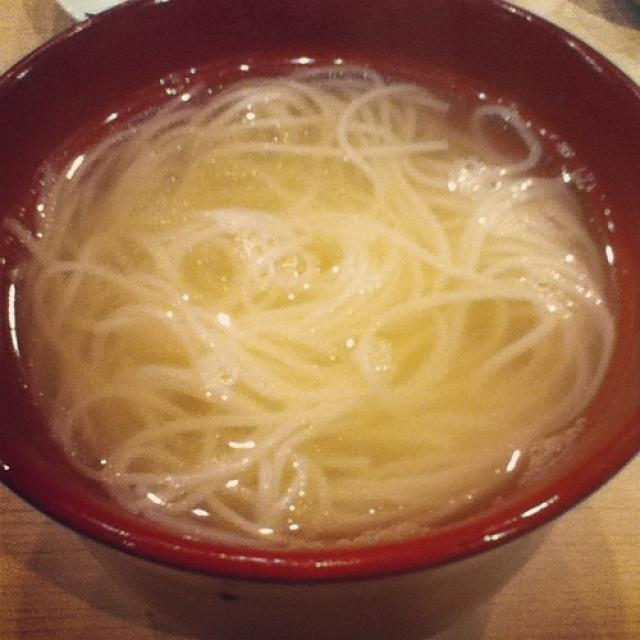面条主食: (8, 15, 627, 589)
